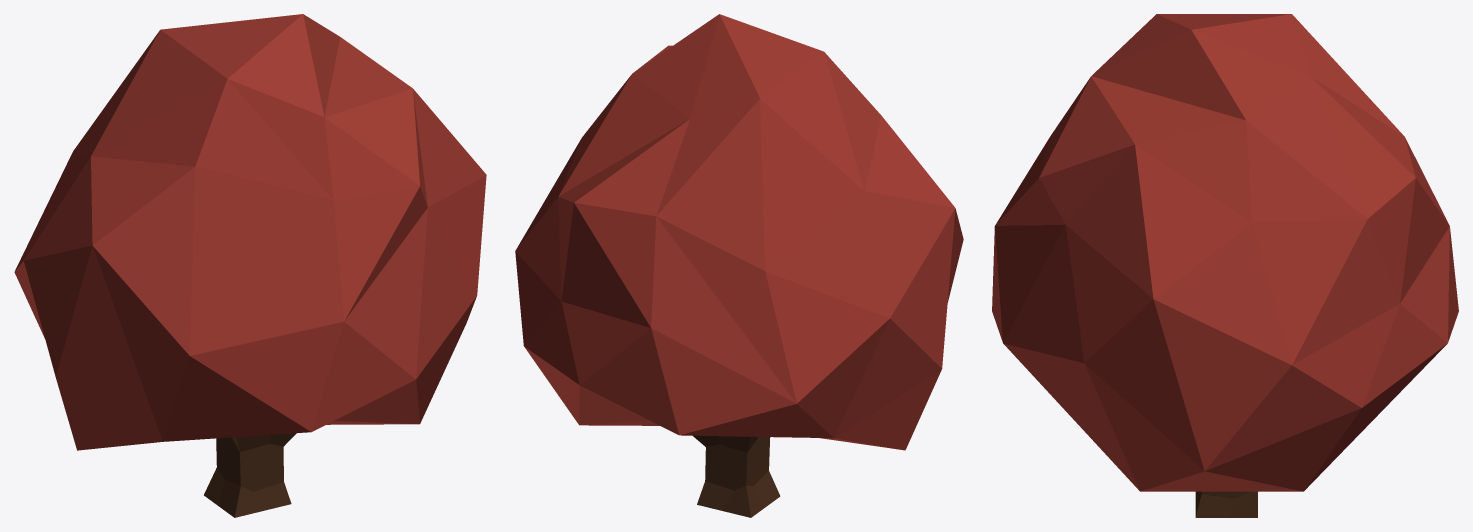
The model's file is Tree_15_Red.fbx.
3 views of the same model, side by side, from view 1: azimuth 30°, elevation 25°; view 2: azimuth 150°, elevation 25°; view 3: azimuth 270°, elevation 25° (orthographic). The views are drawn at different scales.
Parts seen in each view (by area): view 1: Tree_15_Red_Part_1, Tree_15_Red_Part_2; view 2: Tree_15_Red_Part_1, Tree_15_Red_Part_2; view 3: Tree_15_Red_Part_1, Tree_15_Red_Part_2.
Boxes of the visible parts, bbox=[...] form: Tree_15_Red_Part_1: bbox=[14, 14, 486, 450]; Tree_15_Red_Part_2: bbox=[204, 433, 296, 517]; Tree_15_Red_Part_1: bbox=[515, 14, 963, 450]; Tree_15_Red_Part_2: bbox=[693, 435, 780, 517]; Tree_15_Red_Part_1: bbox=[992, 14, 1458, 491]; Tree_15_Red_Part_2: bbox=[1195, 491, 1257, 517].
Bounding box in the file's own units: 691 × 786 × 675.
